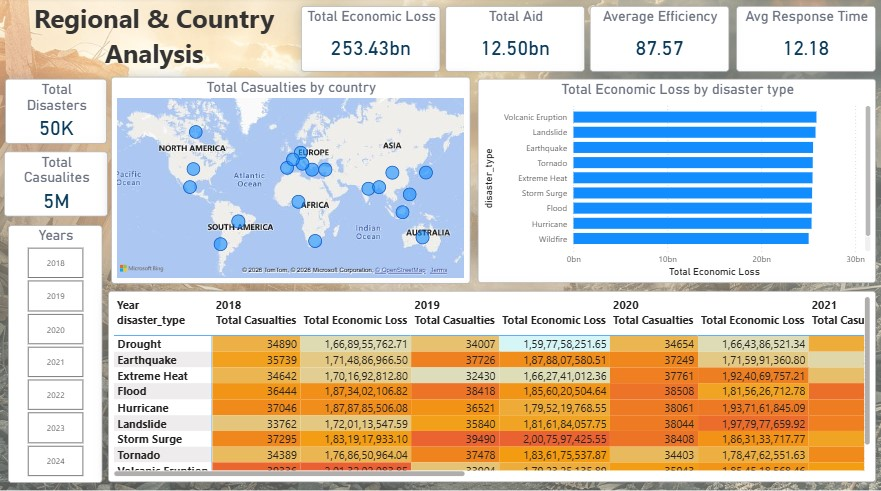

The page's visual inventory and layout, read from the dashboard file:
{"tool":"powerbi","page":{"name":"Regional & Country Analysis","canvas":[1280,720],"ordinal":1},"visuals":[{"type":"card","title":"Total Disasters","fields":{"Values":["Disasters_Table.Total Disasters"]},"box":[8.8,118.6,147.9,93.7],"z":0},{"type":"card","title":"Total Casualites","fields":{"Values":["Disasters_Table.Total Casualties"]},"box":[7.3,224,150.8,93.7],"z":1000},{"type":"card","title":"Total Economic Loss","fields":{"Values":["Disasters_Table.Total Economic Loss"]},"box":[438.1,12.6,202.3,94.9],"z":2000},{"type":"card","title":"Total Aid","fields":{"Values":["Disasters_Table.Total Aid"]},"box":[647.3,12.6,202.3,95],"z":3000},{"type":"card","title":"Avg Response Time","fields":{"Values":["Disasters_Table.Avg Response Time"]},"box":[1068.6,12.6,202,95],"z":4000},{"type":"card","title":"Average Efficiency","fields":{"Values":["Disasters_Table.Avg Efficiency"]},"box":[856.6,12.6,202,95],"z":5000},{"type":"slicer","title":"Years","fields":{"Values":["Calender_Table.Year"]},"box":[13.2,330.8,136.1,373.3],"z":6000},{"type":"map","fields":{"Category":["Disasters_Table.country"],"Size":["Disasters_Table.Total Casualties"]},"box":[161.8,115.8,520.4,299.9],"z":7000},{"type":"barChart","title":"Total Economic Loss by disaster type","fields":{"Category":["Disasters_Table.disaster_type"],"Y":["Disasters_Table.Total Economic Loss"]},"box":[693.4,118.6,577.5,295.7],"z":8000},{"type":"pivotTable","fields":{"Values":["Disasters_Table.Total Casualties","Disasters_Table.Total Economic Loss"],"Rows":["Disasters_Table.disaster_type"],"Columns":["Disasters_Table.Year"]},"box":[157.6,425.5,1113.3,277.6],"z":9000},{"type":"textbox","box":[11.7,0,426,109.8],"z":10000}]}

Visuals, with their boxes in screenshot pixels (x1, y1, x2, y2), scaled from the page's 1280x720 canvas onto the 881x491 screenshot:
"Total Disasters" card: bbox=(6, 81, 108, 145)
"Total Casualites" card: bbox=(5, 153, 109, 217)
"Total Economic Loss" card: bbox=(302, 9, 441, 73)
"Total Aid" card: bbox=(446, 9, 585, 73)
"Avg Response Time" card: bbox=(735, 9, 875, 73)
"Average Efficiency" card: bbox=(590, 9, 729, 73)
"Years" slicer: bbox=(9, 226, 103, 480)
map - Disasters_Table.country x Disasters_Table.Total Casualties: bbox=(111, 79, 470, 283)
"Total Economic Loss by disaster type" barChart: bbox=(477, 81, 875, 283)
pivotTable - Disasters_Table.Total Casualties x Disasters_Table.Total Economic Loss: bbox=(108, 290, 875, 479)
textbox: bbox=(8, 0, 301, 75)
